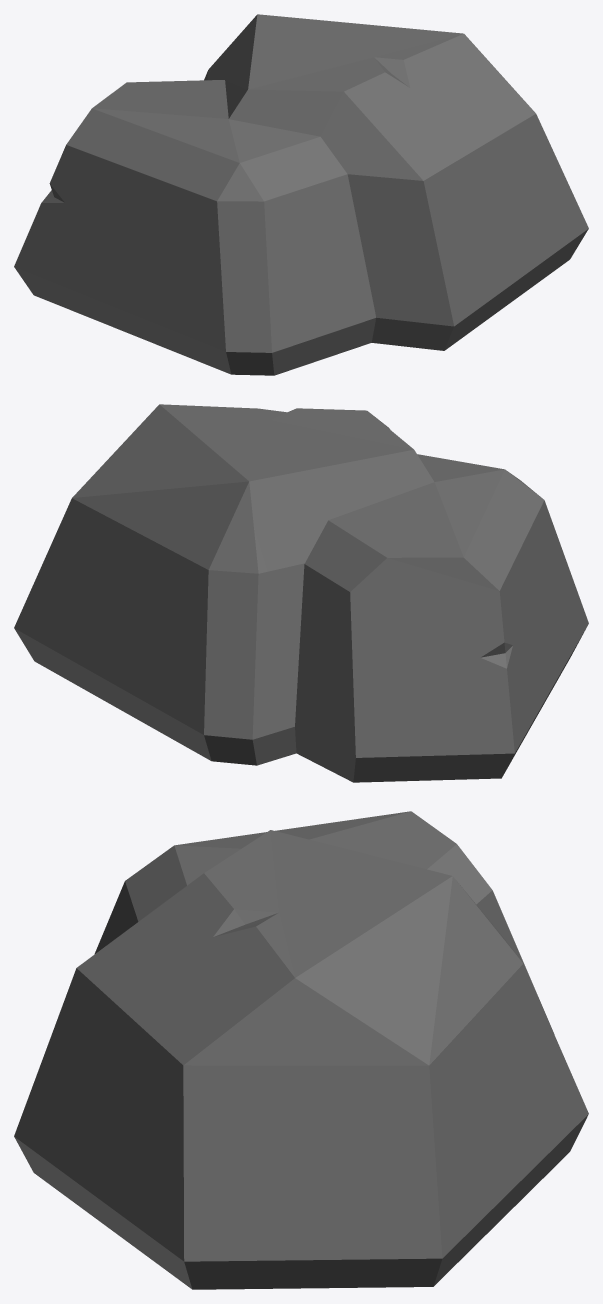
File: rock__rock10_natural_medium.glb
The picture shows the model from 3 angles, top to bottom: view 1: azimuth 30°, elevation 25°; view 2: azimuth 150°, elevation 25°; view 3: azimuth 270°, elevation 25°; orthographic projection. The views are drawn at different scales.
Visible parts, largest first — view 1: rock10.natural.medium; view 2: rock10.natural.medium; view 3: rock10.natural.medium.
Part boxes in pixels (box(x1,y1,x2,y2)): rock10.natural.medium: box(14, 14, 588, 375); rock10.natural.medium: box(14, 404, 588, 782); rock10.natural.medium: box(14, 811, 588, 1289).
Bounding box in the file's own units: 2.77 × 1.25 × 2.3.
1 material, 1 textured.
